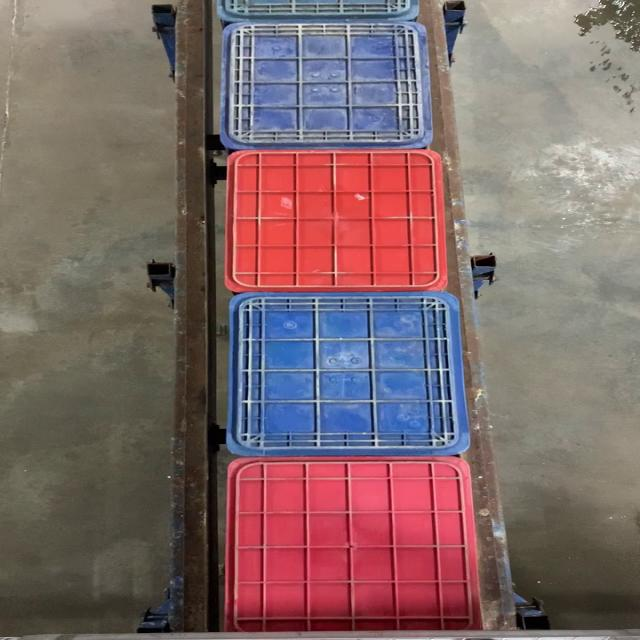Box: (224, 291, 476, 456), (220, 152, 456, 290), (218, 19, 434, 149)
